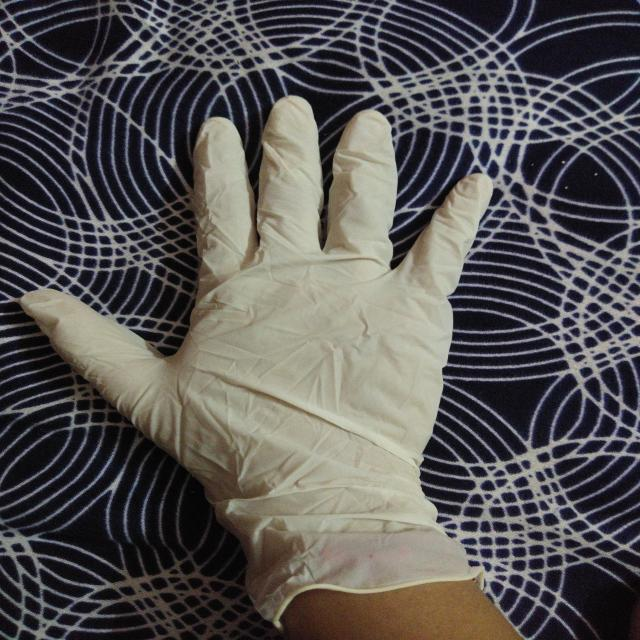glove_hand: (15, 92, 505, 631)
